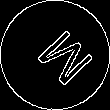M_SW: (21, 21, 89, 89)
